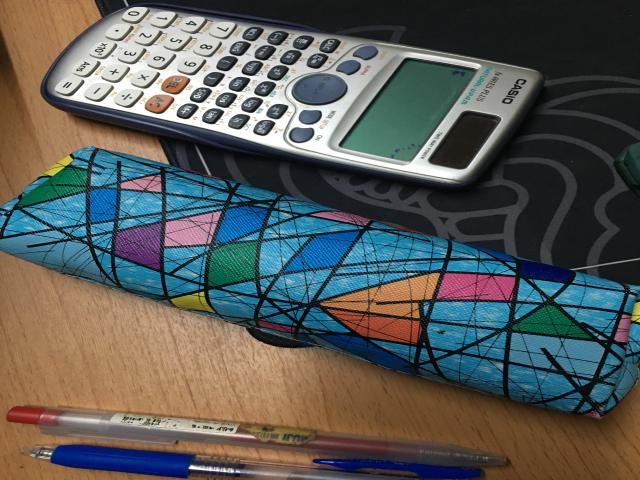Pen: (7, 406, 507, 466), (22, 445, 488, 480)
